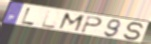9: (103, 19, 124, 39)
L: (40, 9, 57, 30), (19, 7, 37, 26)
M: (56, 12, 87, 34)
P: (79, 15, 103, 34)
S: (122, 22, 146, 42)
